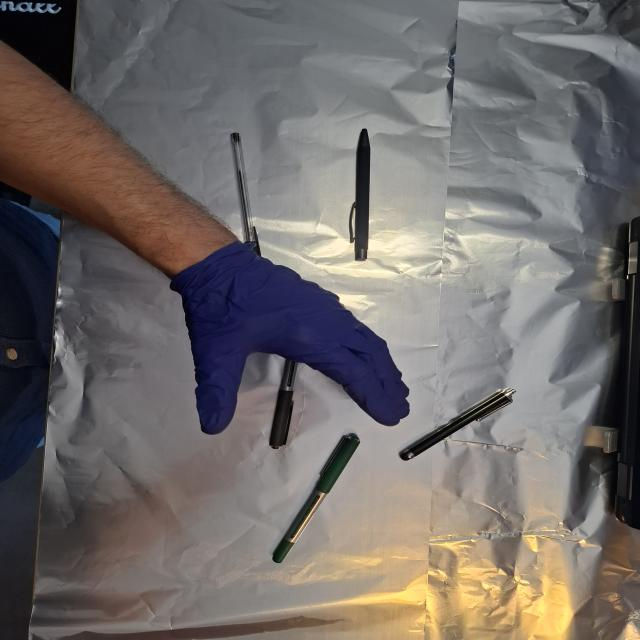glove_on: (173, 242, 413, 438)
